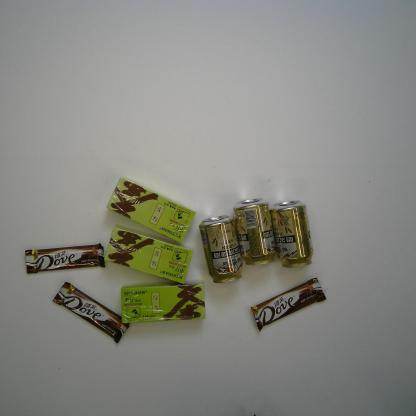Alcohol: (198, 213, 244, 285), (271, 198, 315, 270), (232, 195, 276, 267)
Chocolate: (51, 280, 132, 344), (249, 277, 327, 333), (23, 242, 107, 274)
Instant Drink: (106, 176, 198, 244), (102, 225, 196, 285), (118, 280, 208, 325)
